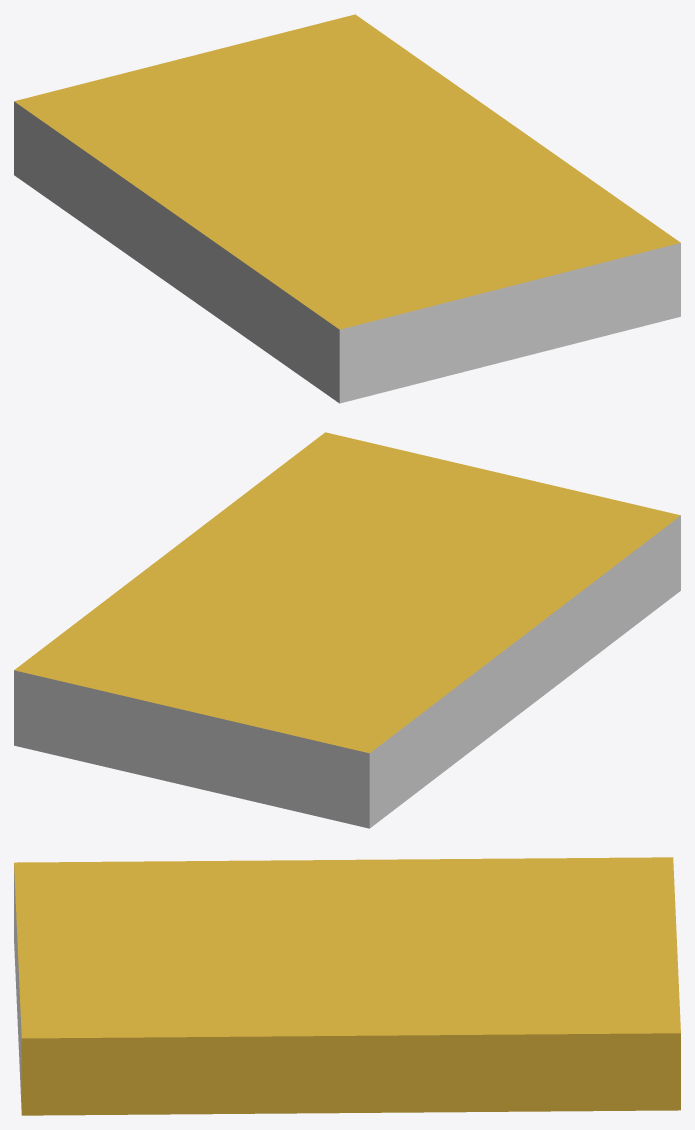
Rendered from Books 2.fbx.
The picture shows the model from 3 angles, top to bottom: view 1: azimuth 30°, elevation 25°; view 2: azimuth 150°, elevation 25°; view 3: azimuth 270°, elevation 25°; orthographic projection. The views are drawn at different scales.
Parts seen in each view (by area): view 1: Books 2; view 2: Books 2; view 3: Books 2.
Boxes of the visible parts, x1,y1,x2,y2 form: Books 2: [14, 14, 680, 403]; Books 2: [14, 432, 680, 828]; Books 2: [14, 857, 680, 1115].
Bounding box in the file's own units: 50.08 × 9.95 × 77.93.
